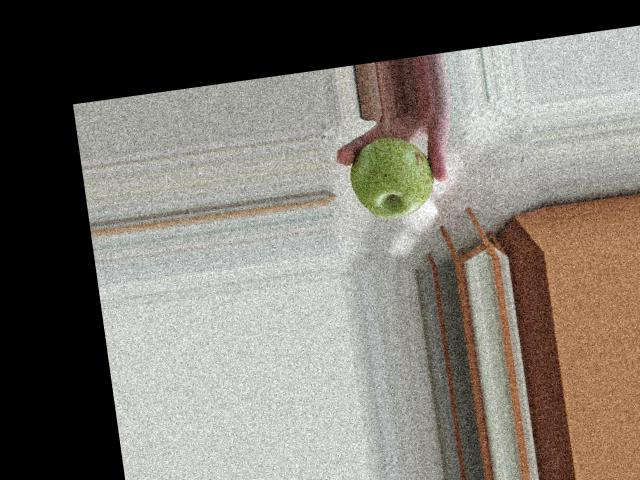apple: (341, 129, 439, 225)
